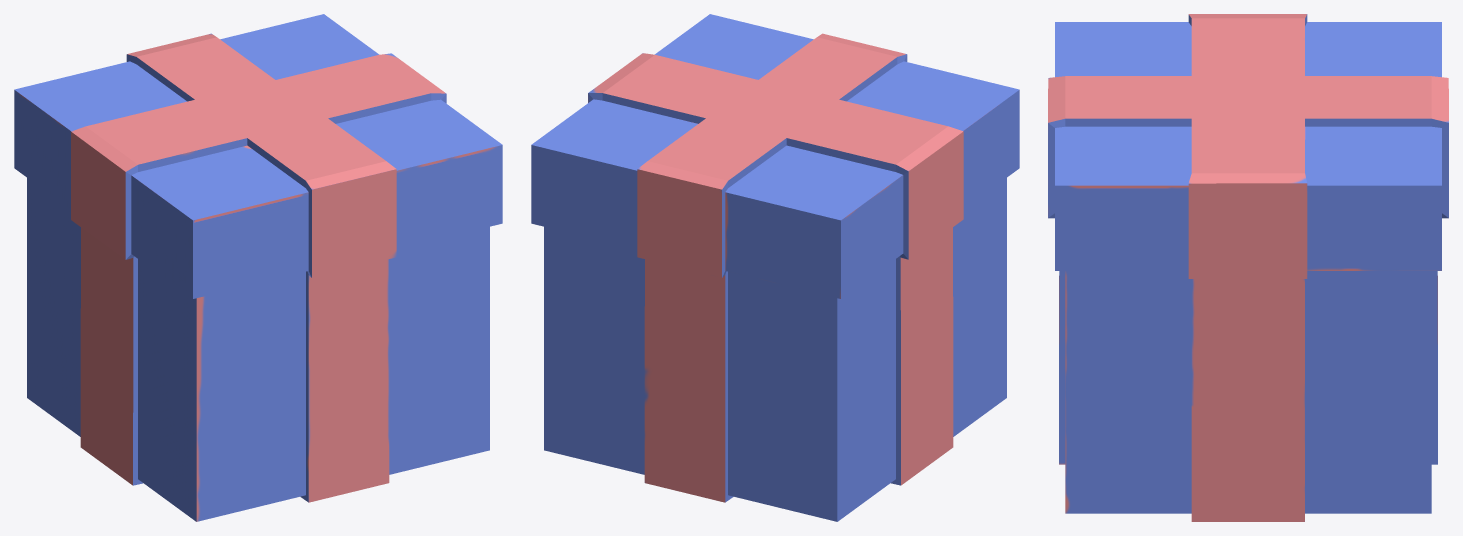
Rendered from GiftBox_3.fbx.
The picture shows the model from 3 angles, left to right: view 1: azimuth 30°, elevation 25°; view 2: azimuth 150°, elevation 25°; view 3: azimuth 270°, elevation 25°; orthographic projection. The views are drawn at different scales.
Parts seen in each view (by area): view 1: Gift box three; view 2: Gift box three; view 3: Gift box three.
Part boxes in pixels (x1,y1,x2,y2): Gift box three: (14,14,502,521); Gift box three: (531,14,1019,521); Gift box three: (1048,14,1448,521).
Bounding box in the file's own units: 146 × 140 × 146.
